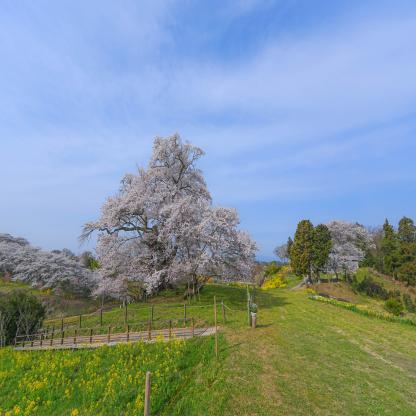EdohiganSakura: (78, 130, 260, 300)
